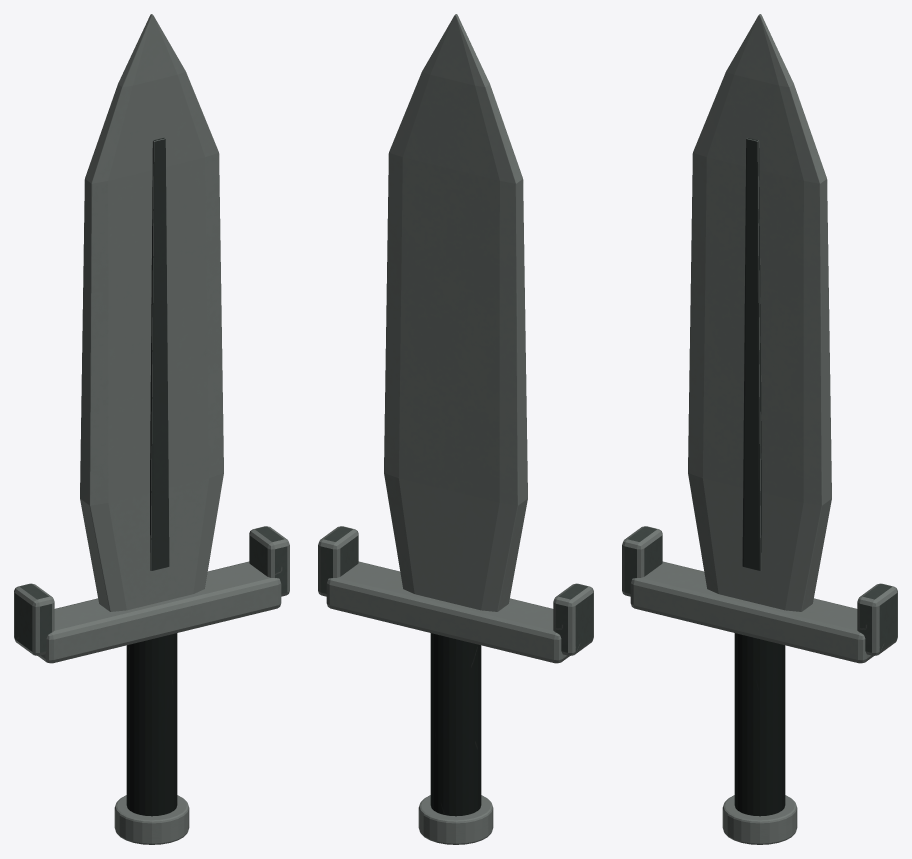
File: greatsword-t4.glb
3 views of the same model, side by side, from view 1: azimuth 30°, elevation 25°; view 2: azimuth 150°, elevation 25°; view 3: azimuth 330°, elevation 25° (orthographic).
Visible parts, largest first — view 1: Forged blade, Crossguard, Wrapped handle, Central blade fuller, Weighted pommel, Guard return, Guard return.001; view 2: Forged blade, Crossguard, Wrapped handle, Weighted pommel, Guard return, Guard return.001; view 3: Forged blade, Crossguard, Wrapped handle, Central blade fuller, Weighted pommel, Guard return.001, Guard return.
Part boxes in pixels (left/top/right/bottom): Forged blade: left=80, top=14, right=223, bottom=611; Crossguard: left=38, top=561, right=281, bottom=663; Wrapped handle: left=126, top=633, right=177, bottom=816; Central blade fuller: left=150, top=137, right=169, bottom=570; Weighted pommel: left=114, top=795, right=189, bottom=844; Guard return: left=14, top=583, right=54, bottom=655; Guard return.001: left=249, top=526, right=289, bottom=596; Forged blade: left=384, top=14, right=527, bottom=611; Crossguard: left=326, top=561, right=569, bottom=663; Wrapped handle: left=430, top=633, right=481, bottom=816; Weighted pommel: left=418, top=795, right=493, bottom=844; Guard return: left=553, top=583, right=593, bottom=655; Guard return.001: left=318, top=526, right=358, bottom=596; Forged blade: left=688, top=14, right=831, bottom=611; Crossguard: left=630, top=561, right=873, bottom=663; Wrapped handle: left=734, top=633, right=785, bottom=816; Central blade fuller: left=742, top=137, right=761, bottom=570; Weighted pommel: left=722, top=795, right=797, bottom=844; Guard return.001: left=857, top=583, right=897, bottom=655; Guard return: left=622, top=526, right=662, bottom=596.
Bounding box in the file's own units: 0.765 × 2.32 × 0.192.
Materials: 4 (4 with a texture image).
